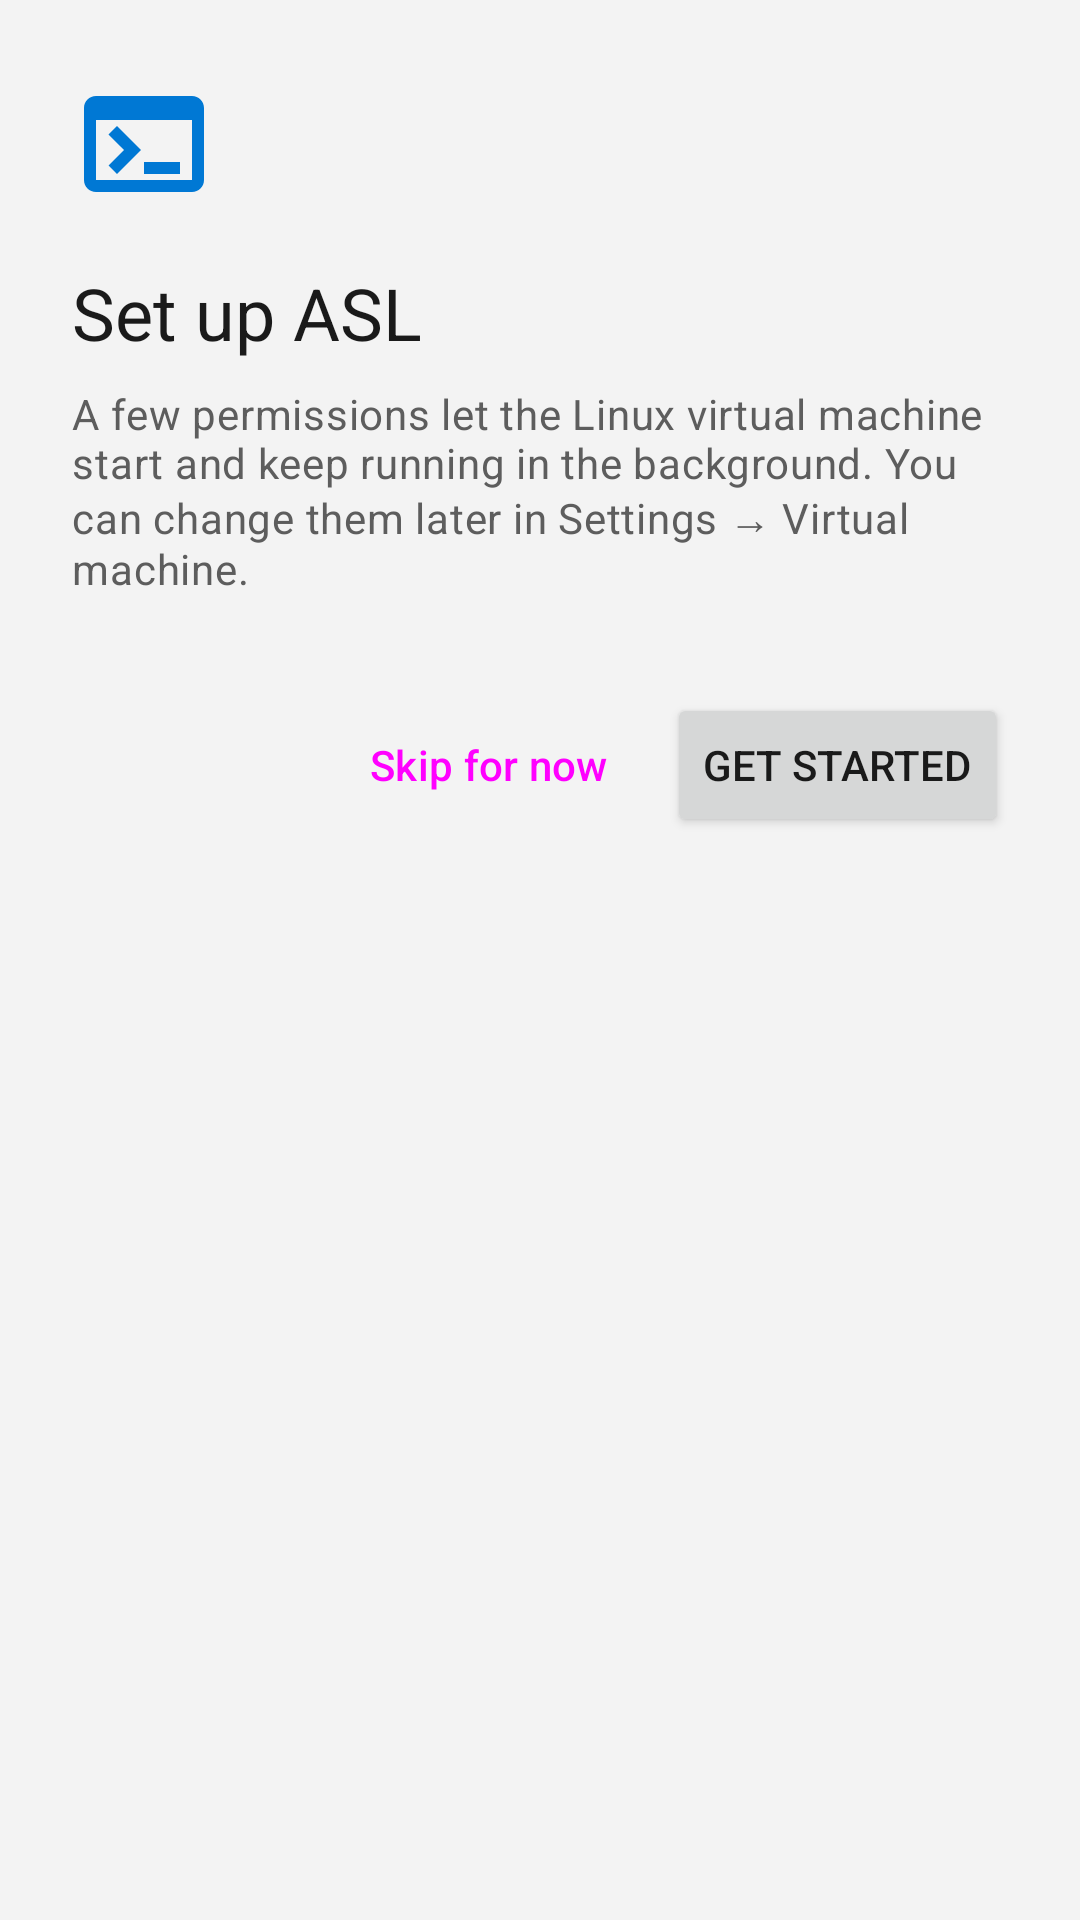

Icon bounding boxes for this 1080px x 1920px phone screenshot, format (x1, y1, x2, y2):
terminal: (84, 96, 204, 192)
